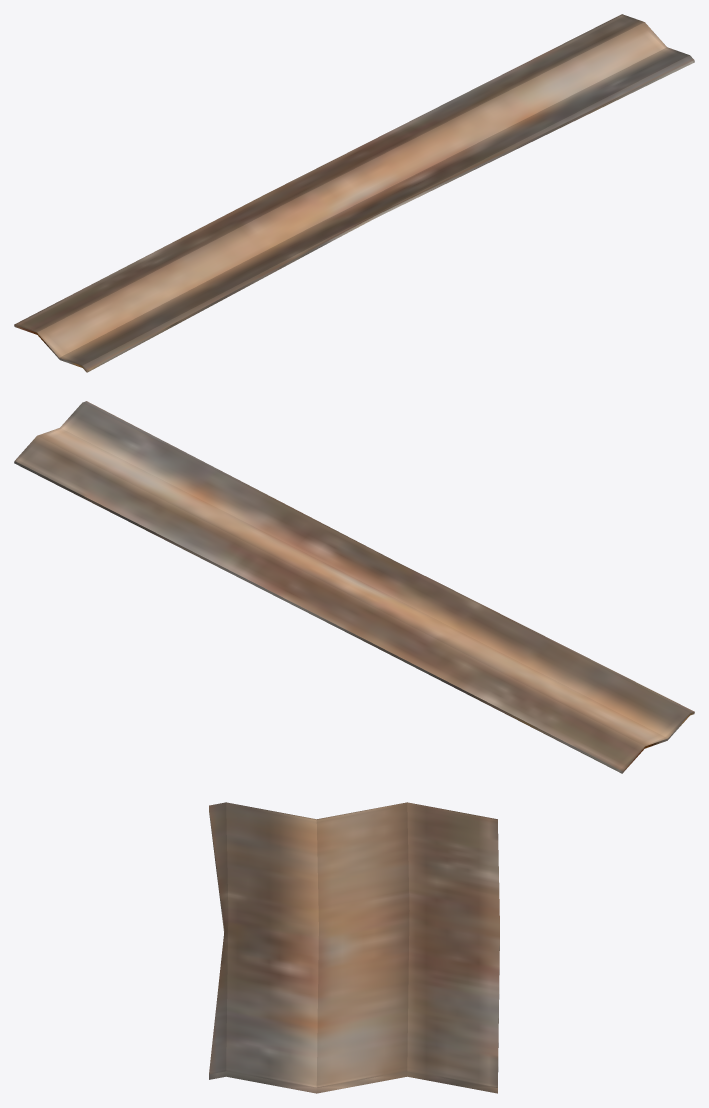
The picture shows the model from 3 angles, top to bottom: view 1: azimuth 30°, elevation 25°; view 2: azimuth 150°, elevation 25°; view 3: azimuth 270°, elevation 25°; orthographic projection. The views are drawn at different scales.
Visible parts, largest first — view 1: Object_42; view 2: Object_42; view 3: Object_42.
Part boxes in pixels (x1,y1,x2,y2): Object_42: (14,14,694,372); Object_42: (14,401,694,773); Object_42: (209,802,499,1093).
Size of the model in its own units: 2.69 by 0.7316 by 0.5573.
1 material, 1 textured.
